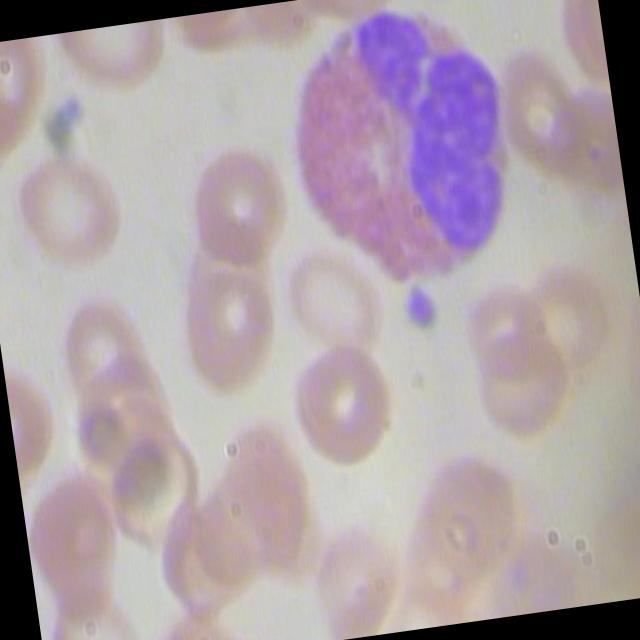Platelets: (398, 274, 451, 332)
RBC: (163, 225, 294, 404), (20, 461, 136, 631), (10, 130, 134, 286), (278, 330, 404, 478), (180, 136, 292, 274), (467, 318, 582, 449), (274, 228, 386, 360), (46, 284, 149, 401)
WBC: (258, 0, 560, 303)
